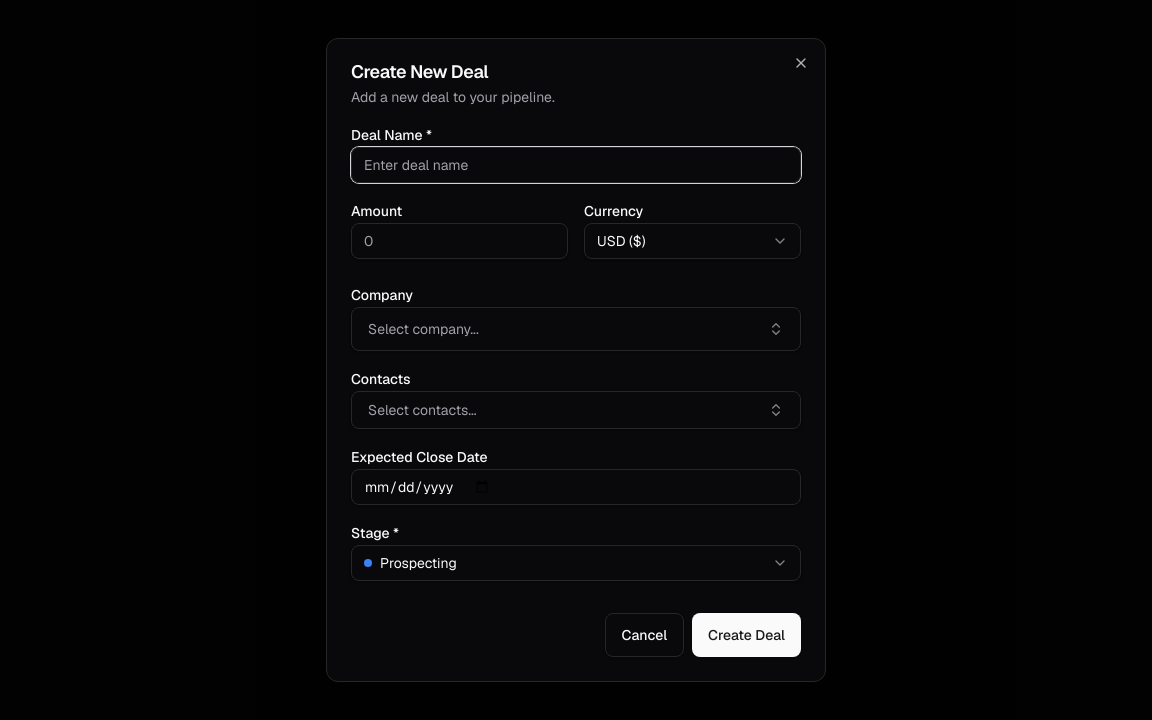
DealForm › Form Validation › validates amount is positive
Type "Test Deal" into the field labelled "Deal Name *" at (576, 165), box [351,147,801,183]
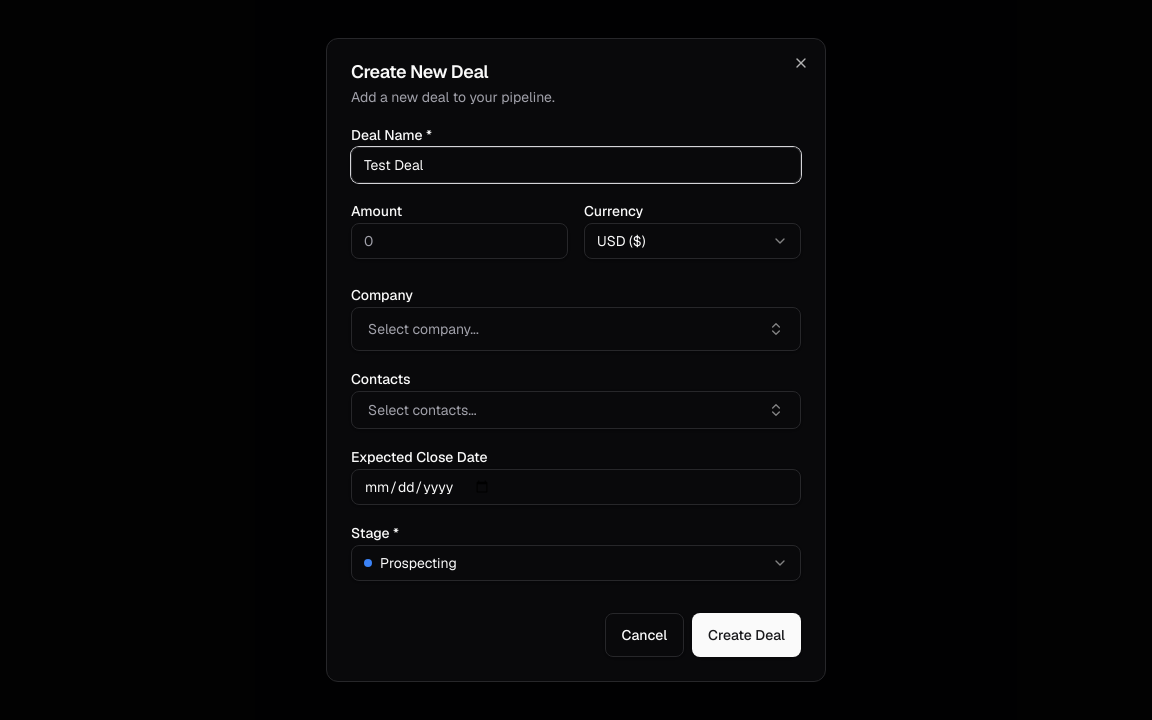
Type "-1000" into the number field labelled "Amount" at (460, 241), box [351,223,568,259]
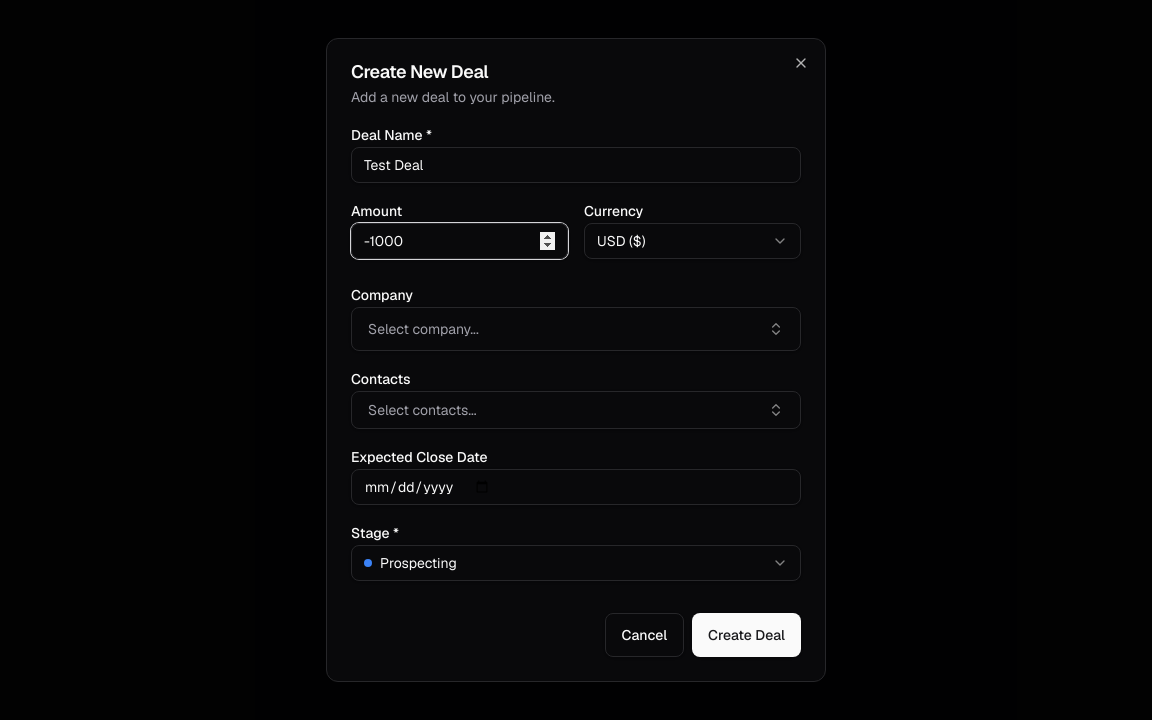
Click the button "Create Deal" at (747, 635), box [692,613,801,657]
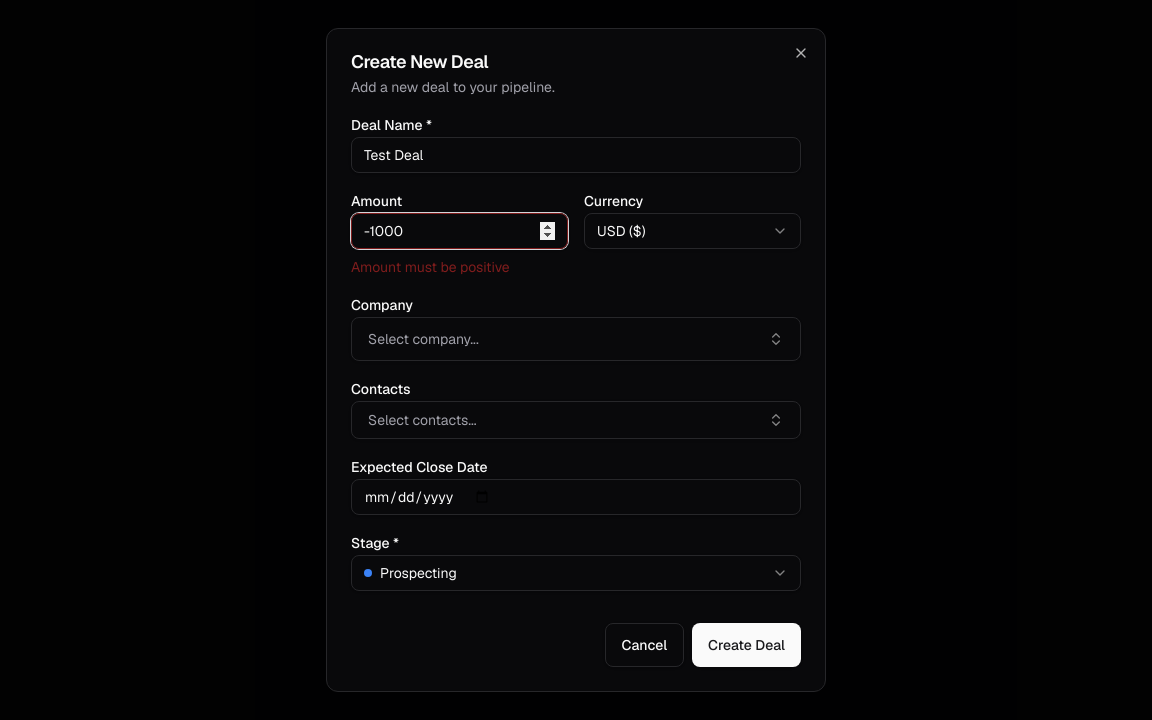
Check: the text "Amount must be positive" is shown, box [351,258,510,276]
